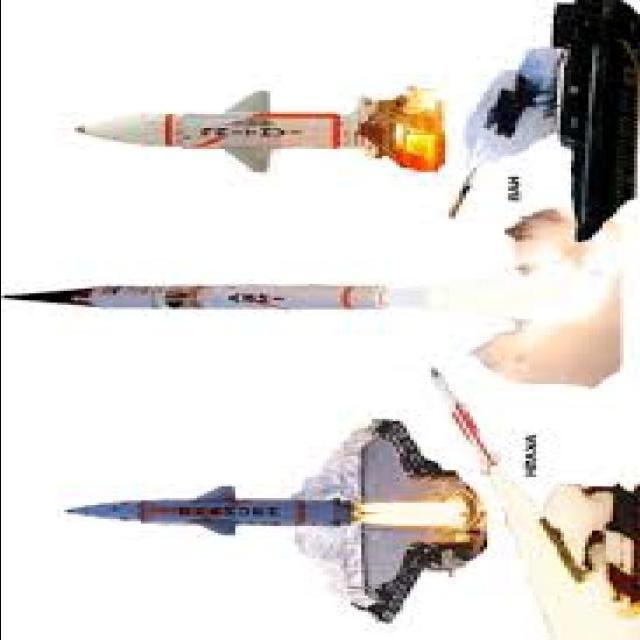missile: (63, 75, 393, 182), (0, 266, 402, 316), (56, 484, 378, 544), (407, 365, 509, 474)
